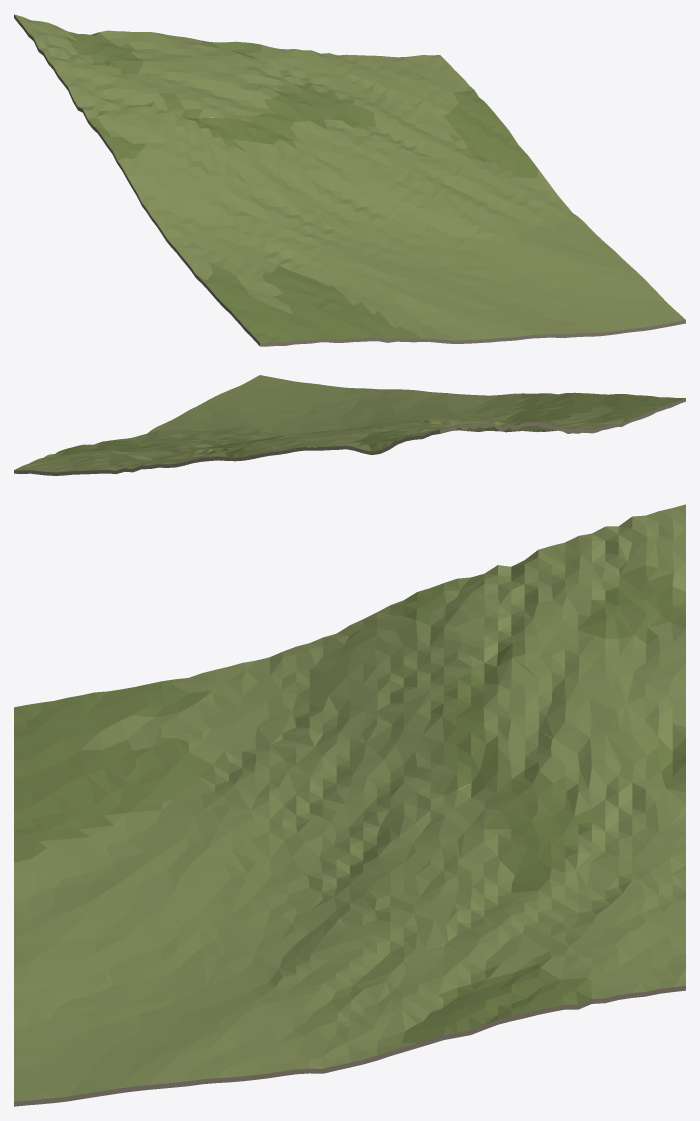
Rendered from parca_+8_-7-uzak.glb.
The picture shows the model from 3 angles, top to bottom: view 1: azimuth 30°, elevation 25°; view 2: azimuth 150°, elevation 25°; view 3: azimuth 270°, elevation 25°; orthographic projection. The views are drawn at different scales.
Parts seen in each view (by area): view 1: parca_+8_-7_arazi_uzak; view 2: parca_+8_-7_arazi_uzak; view 3: parca_+8_-7_arazi_uzak.
Part boxes in pixels (x1,y1,x2,y2): parca_+8_-7_arazi_uzak: [14, 14, 685, 346]; parca_+8_-7_arazi_uzak: [14, 375, 685, 475]; parca_+8_-7_arazi_uzak: [14, 504, 685, 1106].
Bounding box in the file's own units: 1000 × 523 × 1000.
